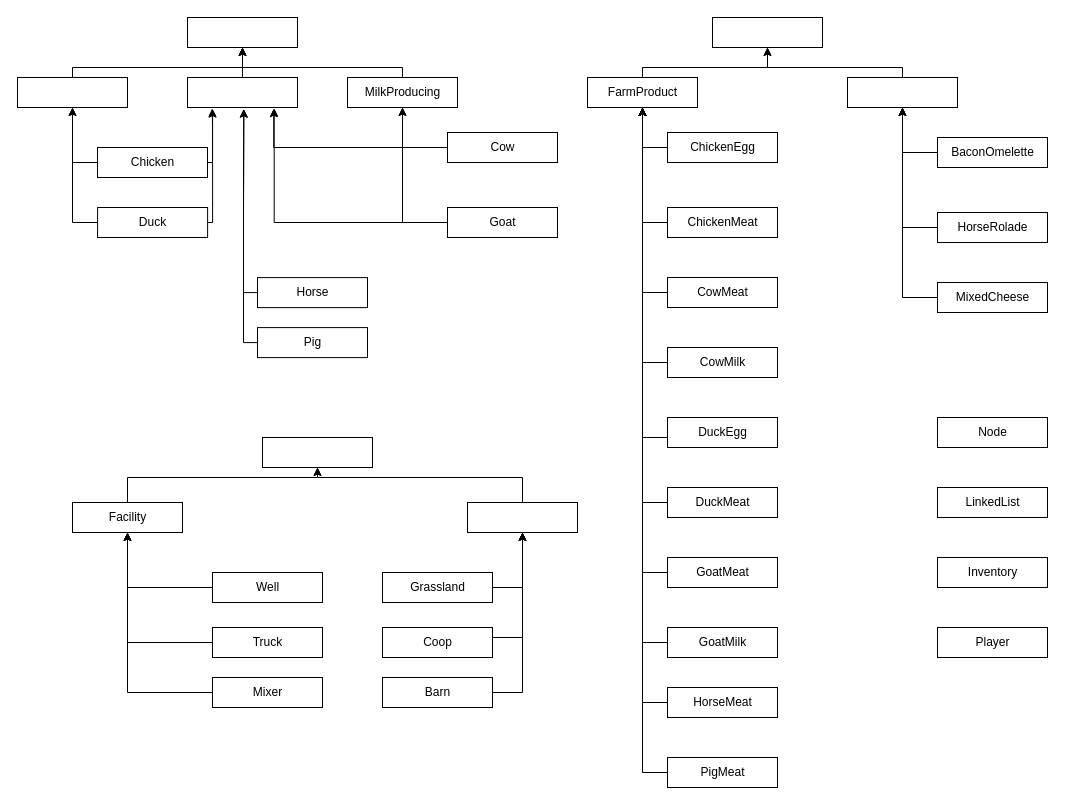
This 1065x805 diagram has some shape labels left out. Here are the shapes that lost their labels. From the top down, the centre of each, then its label:
At (x=242, y=32): "FarmAnimal".
At (x=767, y=32): "Product".
At (x=72, y=92): "EggProducing".
At (x=242, y=92): "MeatProducing".
At (x=902, y=92): "SideProduct".
At (x=317, y=452): "Cell".
At (x=522, y=517): "Land".
